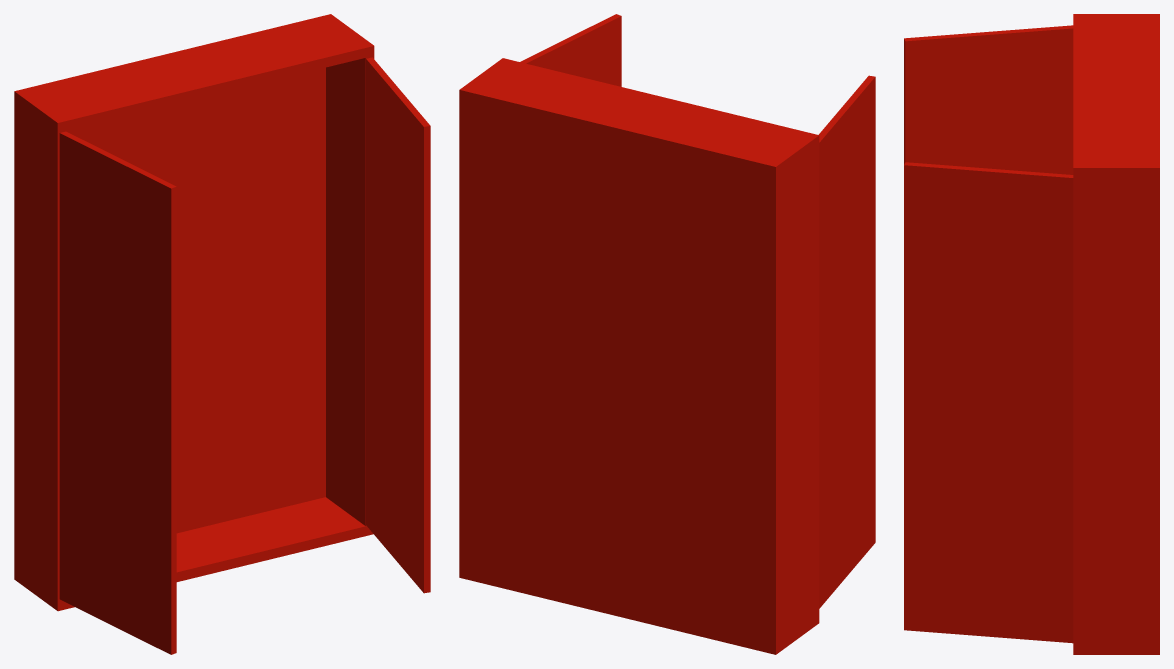
The model's file is UCX_gun_cabinet.fbx.
3 renders of one model, left to right at view 1: azimuth 30°, elevation 25°; view 2: azimuth 150°, elevation 25°; view 3: azimuth 270°, elevation 25°, orthographic.
Visible parts, largest first — view 1: UCX_gun_cabinet; view 2: UCX_gun_cabinet; view 3: UCX_gun_cabinet.
Boxes of the visible parts, x1,y1,x2,y2 form: UCX_gun_cabinet: [14, 14, 430, 654]; UCX_gun_cabinet: [459, 14, 875, 654]; UCX_gun_cabinet: [904, 14, 1159, 654].
Size of the model in its own units: 0.4914 by 0.724 by 0.3448.
